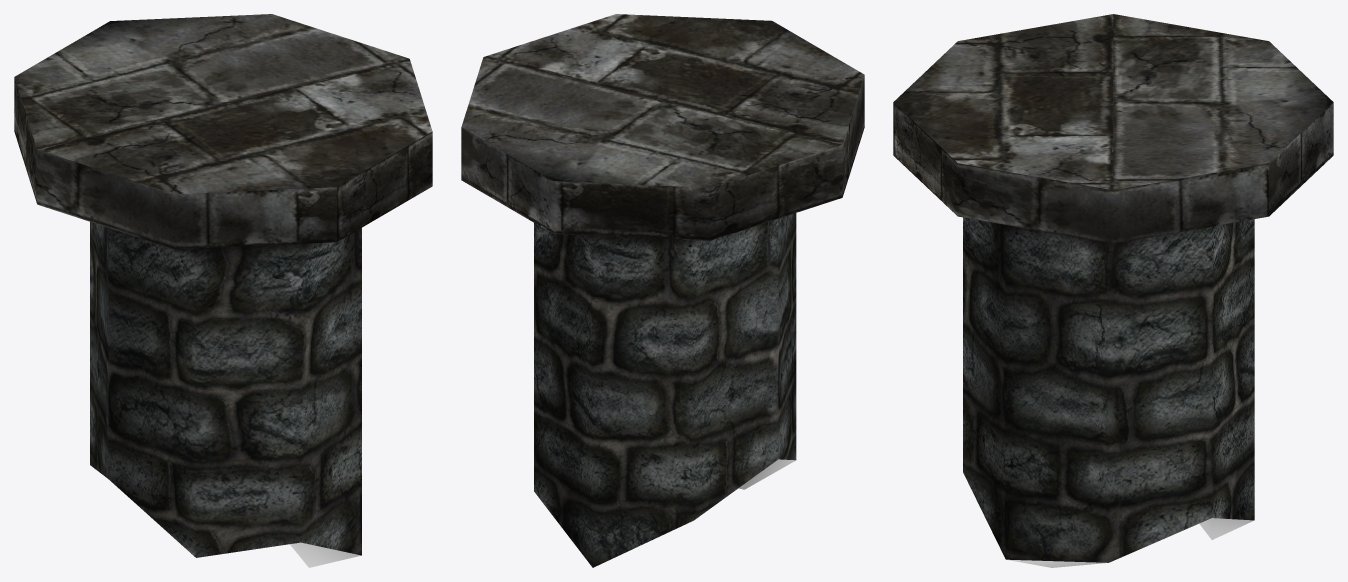
File: tall_castlestone_decayed03.dae
3 renders of one model, left to right at view 1: azimuth 30°, elevation 25°; view 2: azimuth 150°, elevation 25°; view 3: azimuth 270°, elevation 25°, orthographic. The views are drawn at different scales.
Parts seen in each view (by area): view 1: tall_castlestone_decayed03, polySurface15; view 2: tall_castlestone_decayed03; view 3: tall_castlestone_decayed03, polySurface15.
Part boxes in pixels (box(x1,y1,x2,y2)): tall_castlestone_decayed03: box(14, 14, 432, 557); polySurface15: box(290, 542, 360, 567); tall_castlestone_decayed03: box(461, 14, 864, 567); tall_castlestone_decayed03: box(893, 14, 1333, 562); polySurface15: box(1007, 518, 1254, 567).
Bounding box in the file's own units: 1.87 × 2.17 × 1.97.
